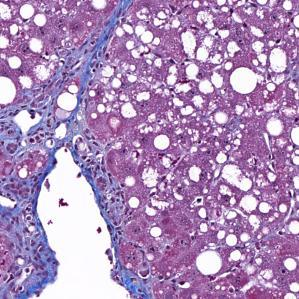fibrosis: (2, 92, 109, 185), (76, 18, 113, 81)
